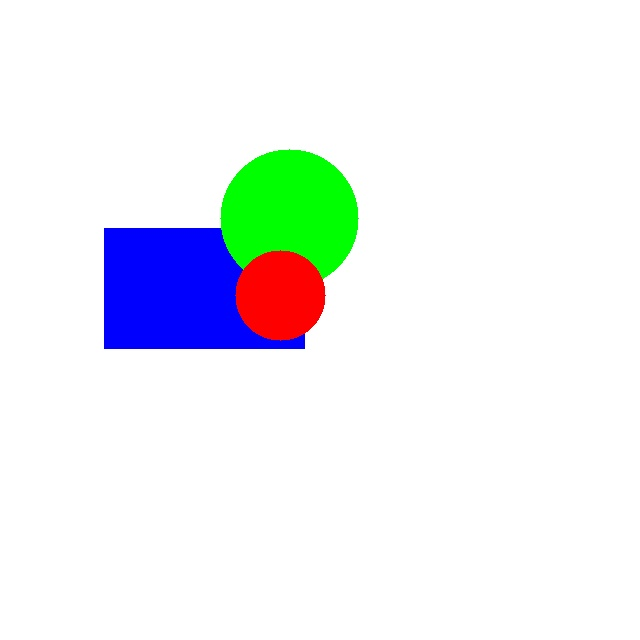cartao: (104, 228, 304, 348)
rosca_externa: (220, 149, 358, 287)
rosca_interna: (235, 250, 325, 340)
